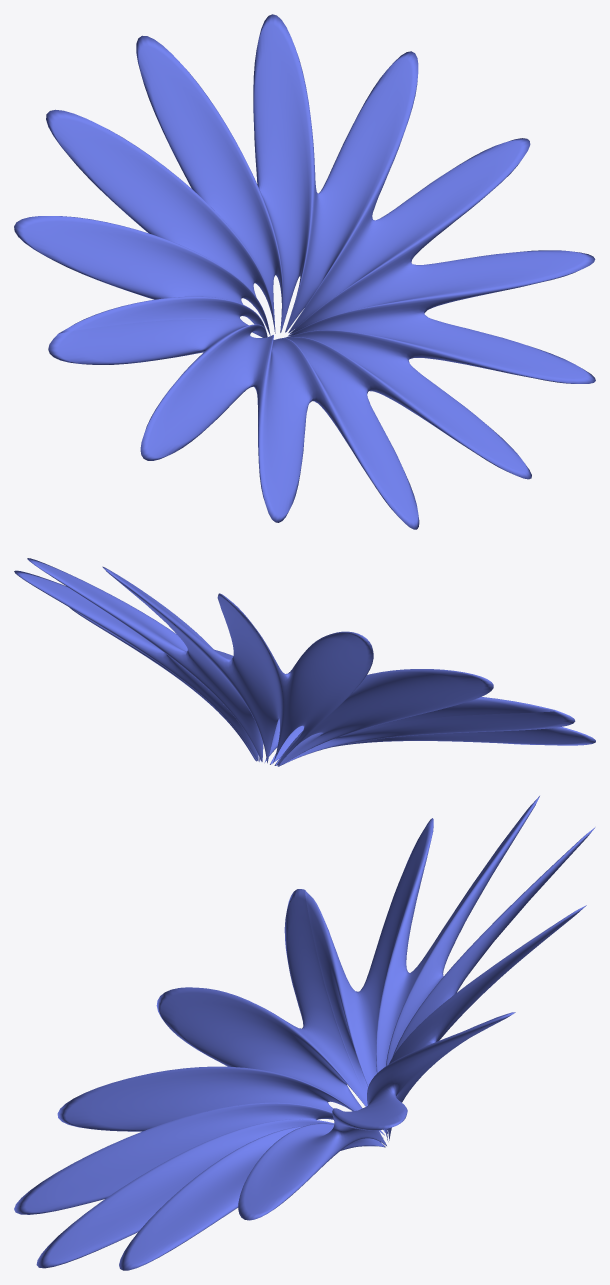
The model's file is asset.glb.
3 views of the same model, one above another, from view 1: azimuth 30°, elevation 25°; view 2: azimuth 150°, elevation 25°; view 3: azimuth 270°, elevation 25° (orthographic). The views are drawn at different scales.
Parts seen in each view (by area): view 1: Torus Knot002; view 2: Torus Knot002; view 3: Torus Knot002.
Boxes of the visible parts, <box> form: Torus Knot002: <box>14,14,595,529</box>; Torus Knot002: <box>14,558,595,766</box>; Torus Knot002: <box>14,796,595,1270</box>.
Size of the model in its own units: 5.3 by 3.05 by 4.33.
